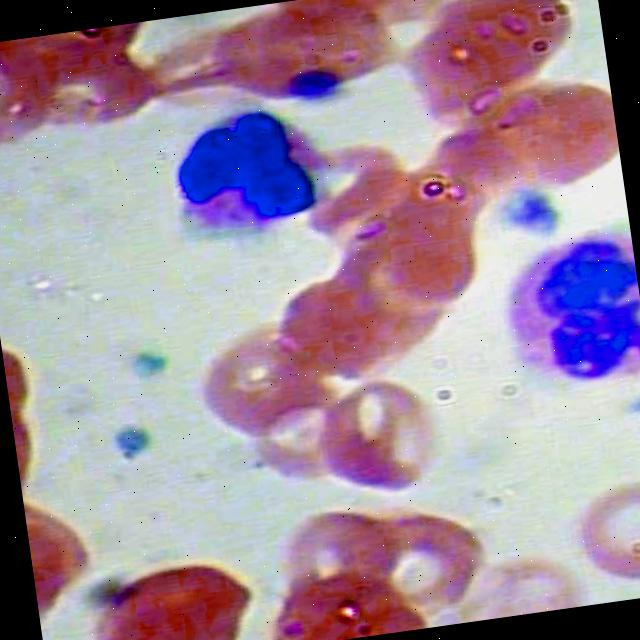Platelets: (493, 178, 566, 248), (117, 342, 183, 392), (280, 64, 346, 113), (98, 418, 164, 467)
RBC: (296, 362, 459, 510), (180, 310, 334, 442), (383, 9, 537, 140), (258, 266, 412, 396), (327, 202, 481, 332), (73, 540, 265, 640), (353, 496, 496, 630), (260, 498, 402, 632), (482, 74, 624, 204), (8, 34, 158, 150), (431, 0, 585, 94), (452, 520, 586, 623), (248, 386, 370, 494), (20, 476, 102, 636), (556, 468, 640, 602), (270, 0, 455, 55), (10, 21, 154, 89), (0, 33, 72, 149)
WBC: (134, 86, 342, 266), (475, 217, 640, 400)
